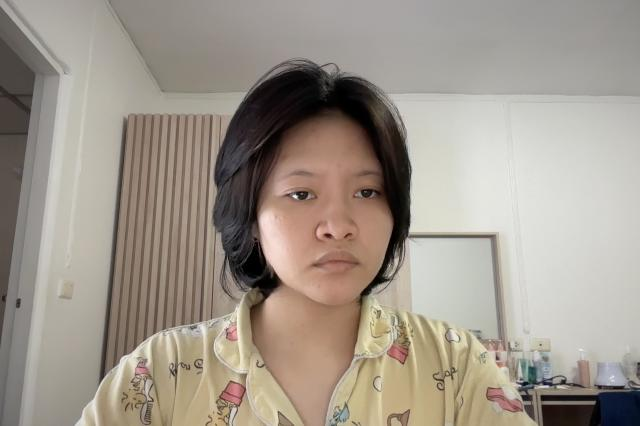fokus: (243, 74, 408, 302)
